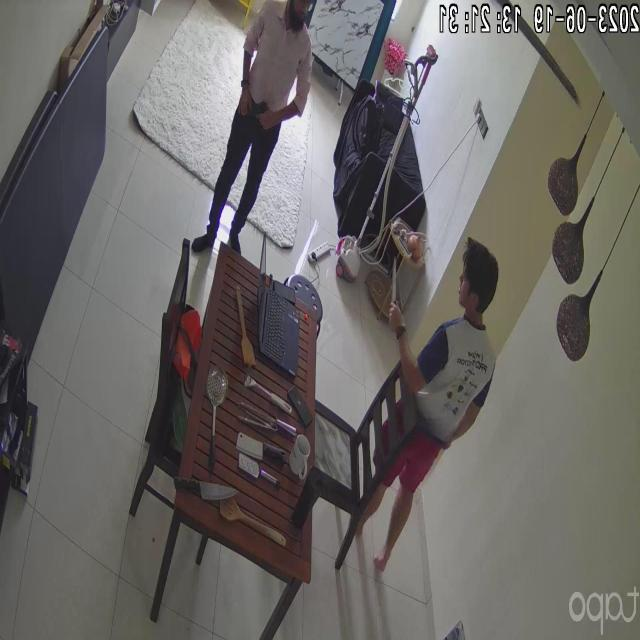Gun: (236, 90, 277, 127)
Knife: (168, 470, 246, 507), (377, 252, 411, 318)
